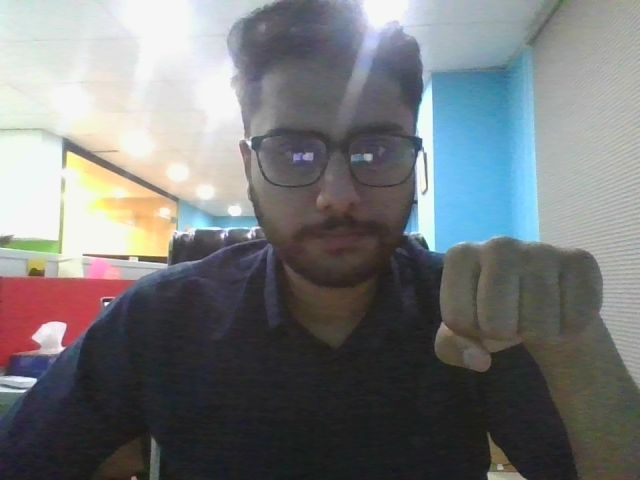yes: (426, 227, 628, 410)
